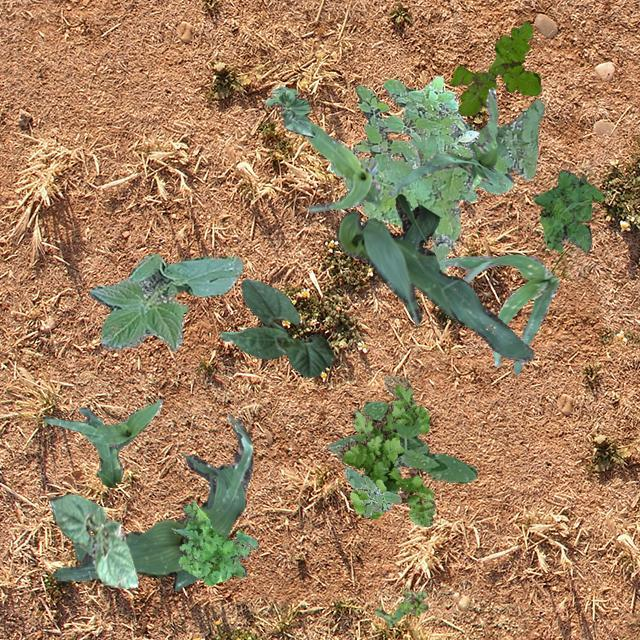crop: (51, 413, 252, 590), (336, 192, 534, 360), (89, 252, 242, 350), (437, 254, 558, 374), (388, 86, 498, 196), (218, 276, 332, 376), (42, 398, 162, 486), (49, 492, 138, 588), (306, 120, 380, 212), (264, 88, 314, 136)
weed: (328, 98, 544, 272), (336, 374, 434, 526), (326, 400, 476, 492), (352, 74, 478, 180), (450, 20, 540, 114), (172, 500, 258, 584), (532, 168, 602, 252), (344, 464, 401, 516), (373, 588, 428, 626)
